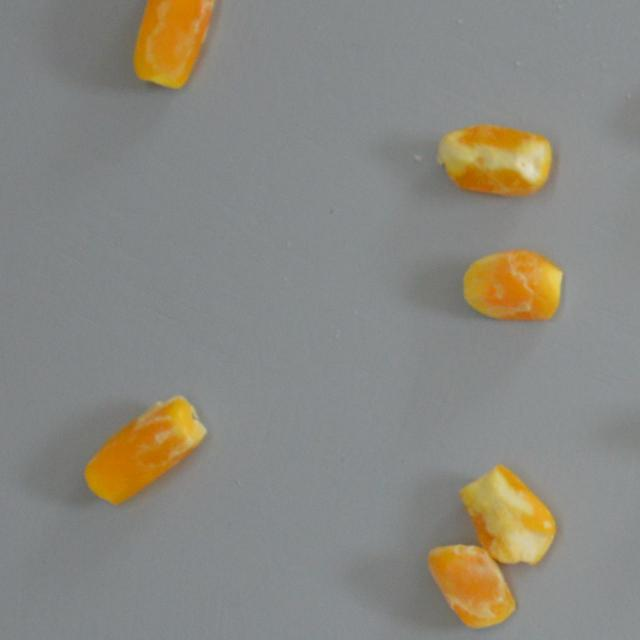pelicula: (80, 395, 210, 506), (458, 465, 556, 566), (435, 122, 552, 194), (458, 249, 566, 324), (128, 0, 218, 90), (424, 544, 518, 628)
